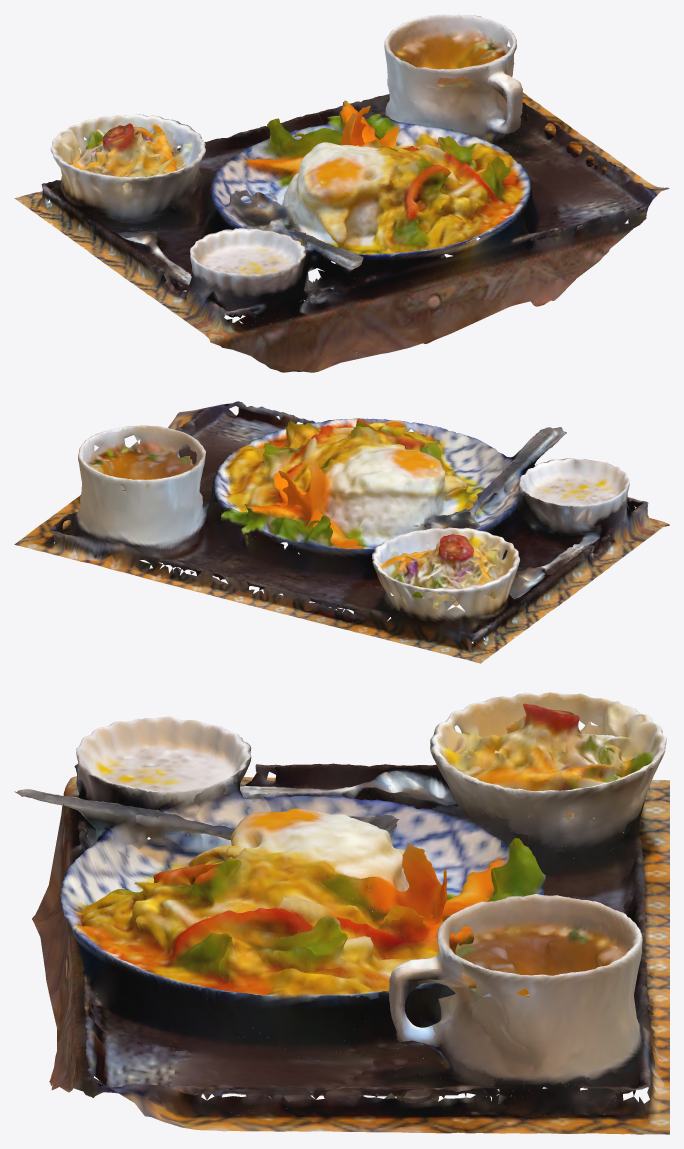
The model's file is plato06.glb.
The picture shows the model from 3 angles, top to bottom: view 1: azimuth 30°, elevation 25°; view 2: azimuth 150°, elevation 25°; view 3: azimuth 270°, elevation 25°; orthographic projection. The views are drawn at different scales.
Visible parts, largest first — view 1: Object_2, Object_3, Object_4; view 2: Object_2, Object_3, Object_4; view 3: Object_2, Object_3, Object_4.
Part boxes in pixels (<box>): Object_2: <box>14,14,658,372</box>; Object_3: <box>42,14,669,372</box>; Object_4: <box>58,15,652,371</box>; Object_2: <box>14,408,669,663</box>; Object_3: <box>25,402,646,634</box>; Object_4: <box>50,401,648,643</box>; Object_2: <box>21,692,669,1134</box>; Object_3: <box>14,692,669,1133</box>; Object_4: <box>17,701,669,1113</box>.
Bounding box in the file's own units: 0.4322 × 0.1233 × 0.331.
Materials: 1 (1 with a texture image).
